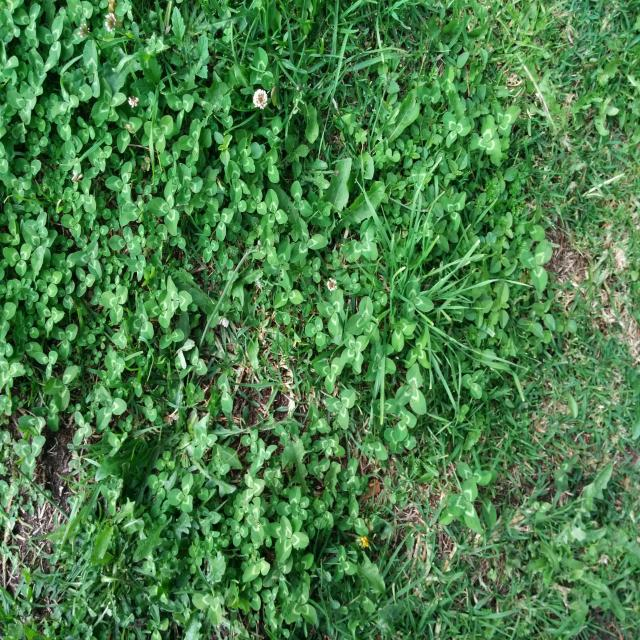Four Leaf Clover: (340, 331, 369, 373)
